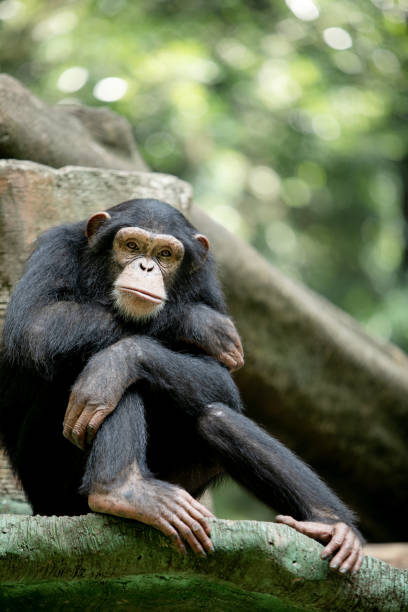chimpanzee: (69, 176, 222, 357)
